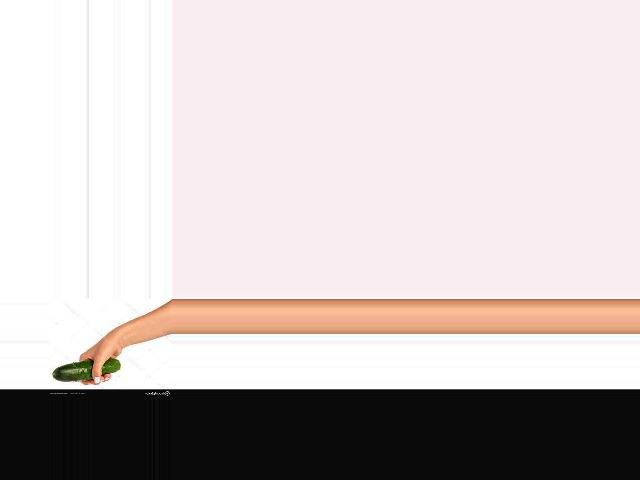cucumber: (51, 358, 120, 382)
